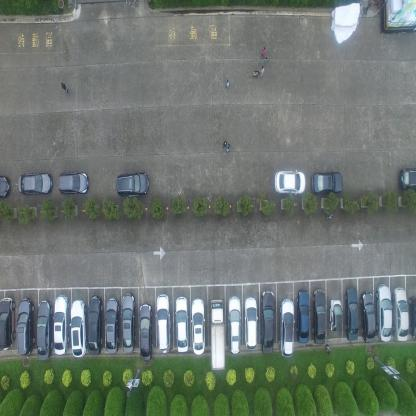car: (16, 296, 35, 357), (210, 298, 226, 370), (70, 298, 88, 360), (260, 290, 276, 356), (53, 292, 69, 356), (36, 299, 52, 360), (156, 294, 172, 353), (17, 170, 53, 196), (0, 295, 16, 353), (376, 284, 392, 342), (121, 292, 136, 353), (88, 294, 103, 355), (279, 297, 294, 358), (274, 168, 306, 196), (191, 297, 206, 356), (228, 296, 242, 358), (393, 286, 408, 343), (360, 290, 376, 343), (139, 302, 153, 362), (105, 295, 119, 354), (116, 171, 149, 196), (344, 285, 359, 340), (175, 295, 189, 353), (312, 288, 326, 345), (296, 288, 310, 344), (58, 170, 89, 195), (311, 171, 343, 195), (245, 297, 258, 351), (329, 296, 342, 334), (398, 166, 416, 192), (408, 294, 416, 339), (0, 175, 11, 199)
